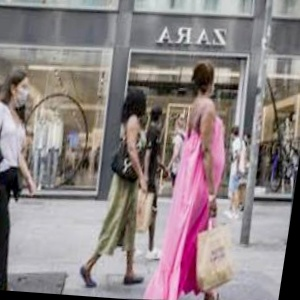zara: (154, 0, 300, 44)
